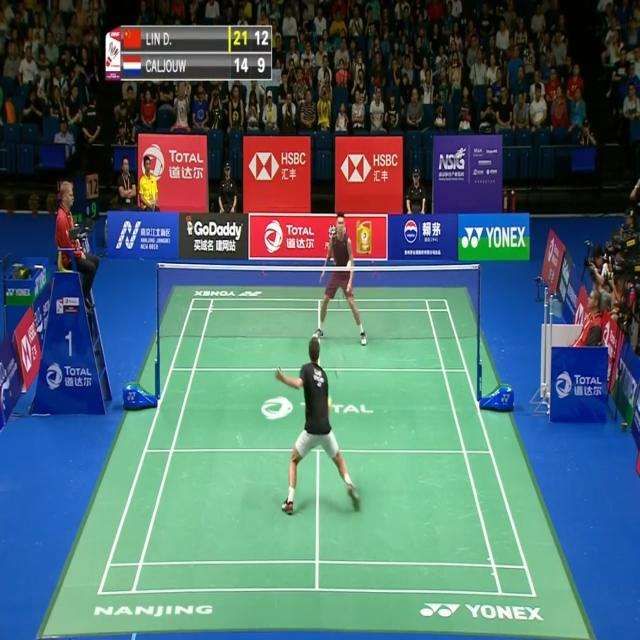Player1: (267, 334, 367, 521), (314, 202, 316, 205)
Player2: (310, 208, 370, 349)
